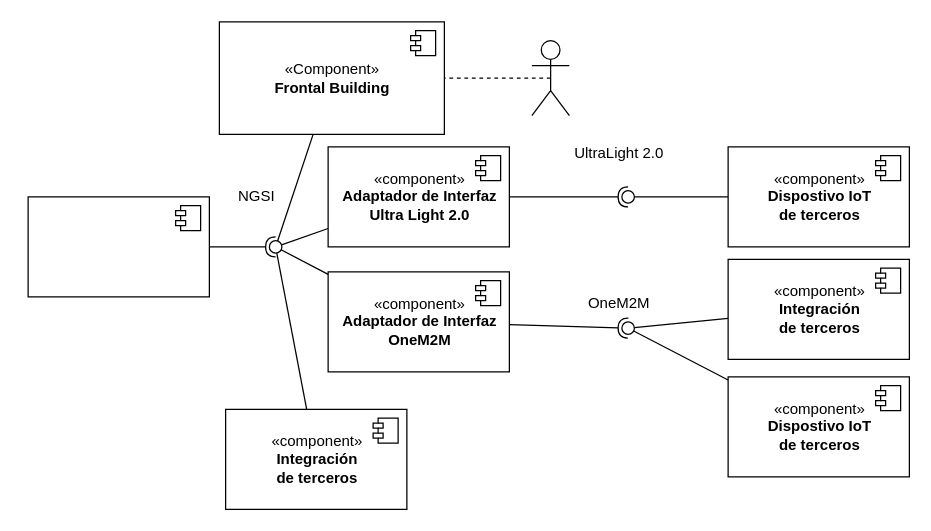
Image size: 931x531. Some labels were removed from this diagram. The shapes that lost their labels are listed below. From the top down, each one's box as (x1, y1, x2, y2) in pixels, then its label:
(531, 39, 569, 116): Actor
(27, 196, 209, 297): «component» IBuilding
